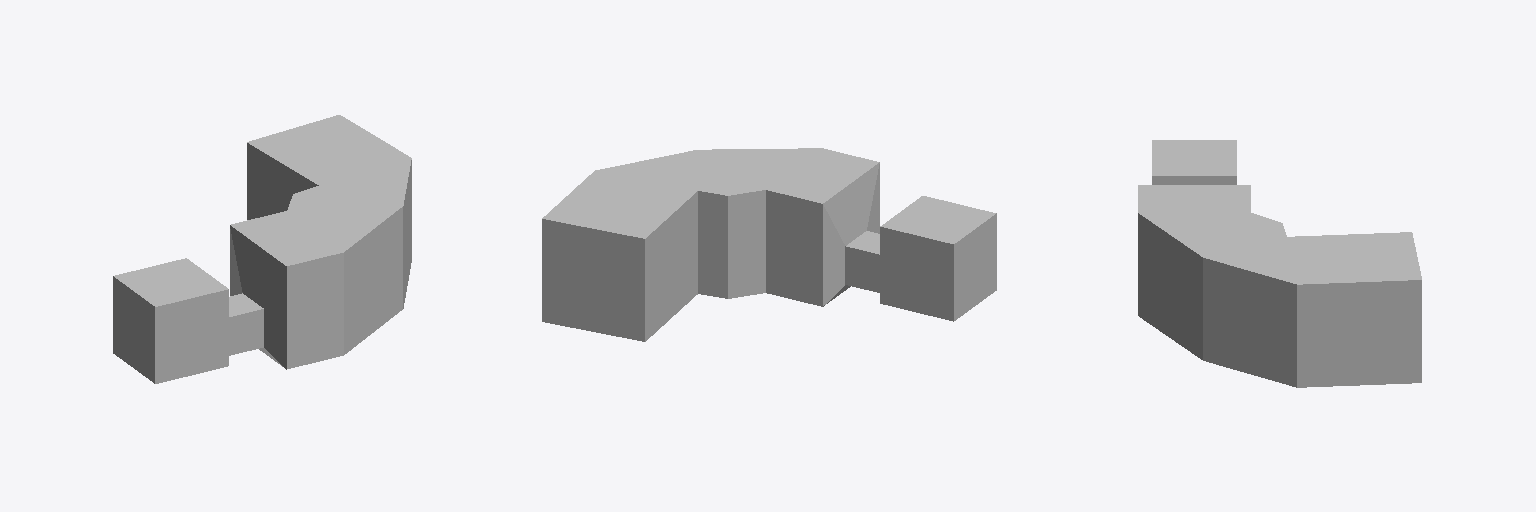
File: room1.obj
The picture shows the model from 3 angles: view 1: azimuth 30°, elevation 25°; view 2: azimuth 150°, elevation 25°; view 3: azimuth 270°, elevation 25°; orthographic projection.
Visible parts, largest first — view 1: Cube; view 2: Cube; view 3: Cube.
Boxes of the visible parts, x1,y1,x2,y2 form: Cube: [113, 115, 411, 383]; Cube: [542, 148, 996, 341]; Cube: [1138, 140, 1421, 387].
Size of the model in its own units: 8.93 by 2.67 by 6.69.